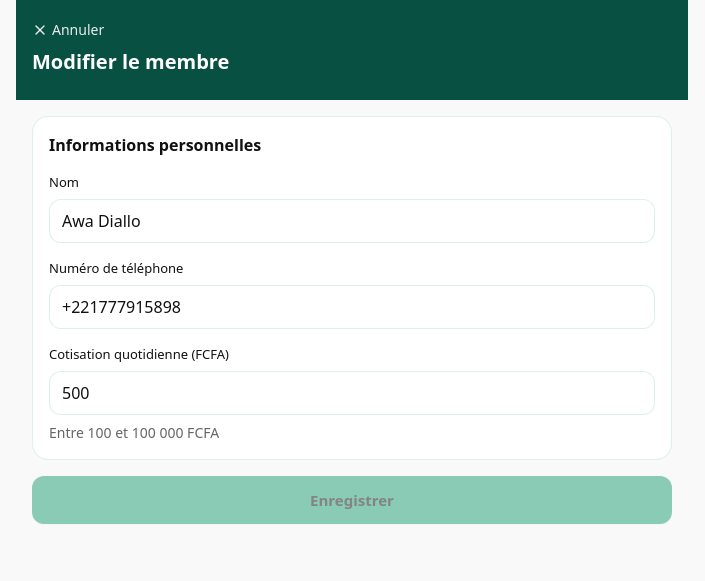
MemberForm — edit mode › renders the impact alert via the belowFields render-prop slot
The width and height of the screenshot is (705, 581).
Replace the text in the number field labelled "Cotisation quotidienne (FCFA)" with "999" at (352,393), box top-left (49, 371), bottom-right (655, 415)
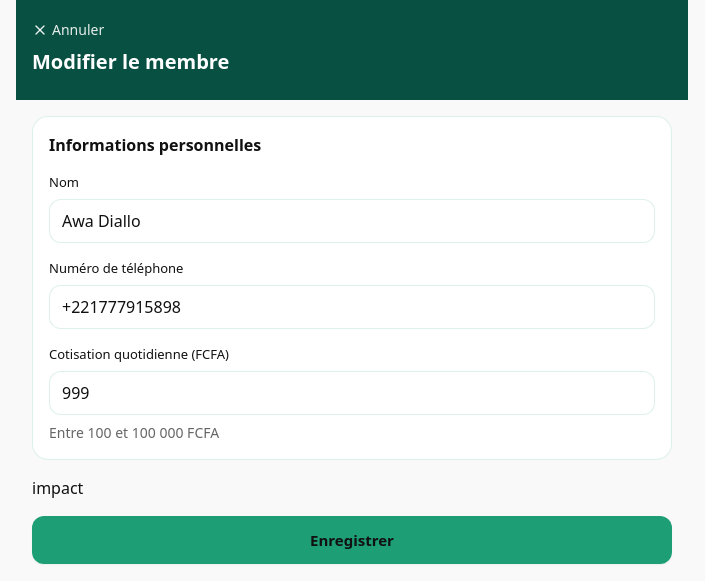
Check: the text "impact" is shown, box top-left (32, 477), bottom-right (83, 499)
